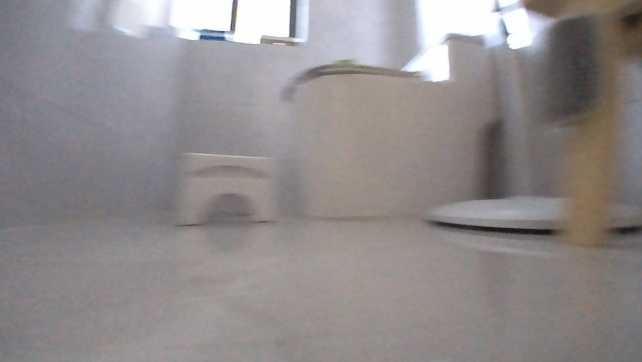chair_base: (427, 170, 641, 235)
toilet: (269, 32, 485, 218)
